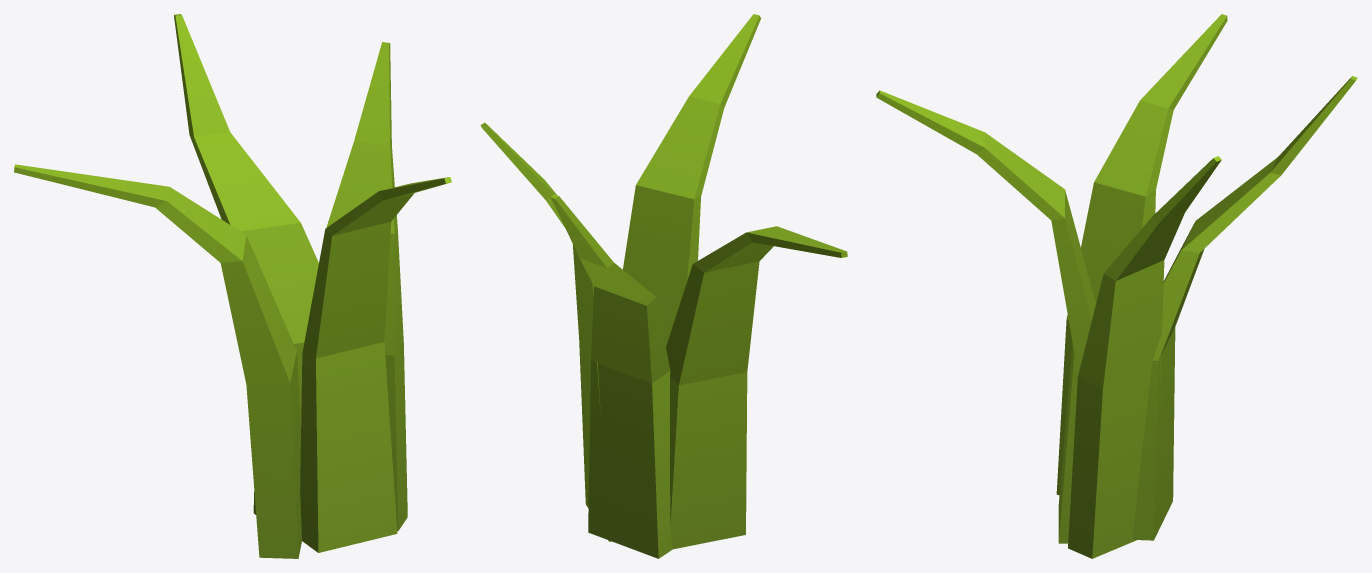
The model's file is grass_3.fbx.
The picture shows the model from 3 angles, left to right: view 1: azimuth 30°, elevation 25°; view 2: azimuth 150°, elevation 25°; view 3: azimuth 270°, elevation 25°; orthographic projection.
Visible parts, largest first — view 1: grass 3; view 2: grass 3; view 3: grass 3.
Part boxes in pixels (x1,y1,x2,y2): grass 3: (14, 14, 451, 558); grass 3: (480, 14, 847, 558); grass 3: (876, 14, 1357, 558).
Bounding box in the file's own units: 0.7556 × 0.6788 × 0.7525.
